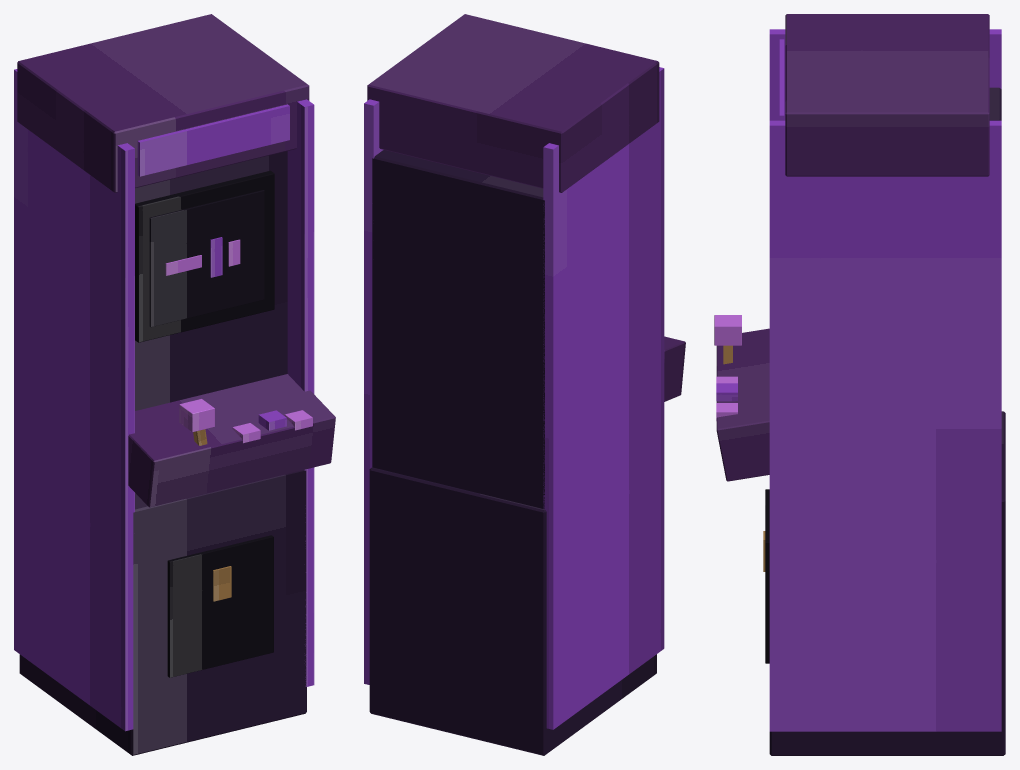
Rendered from arcade_cabinet_ultraviolet.glb.
3 views of the same model, side by side, from view 1: azimuth 30°, elevation 25°; view 2: azimuth 150°, elevation 25°; view 3: azimuth 270°, elevation 25° (orthographic). The views are drawn at different scales.
Parts seen in each view (by area): view 1: EdgeTrim_L, CabinetBase, Marquee, ControlDeck, CabinetUpper, CoinDoor, ScreenGlass, EdgeTrim_R, ScreenRecess, MarqueeFace, JoystickTop, CoinSlot; view 2: EdgeTrim_L, CabinetUpper, CabinetBase, Marquee, EdgeTrim_R, ControlDeck; view 3: EdgeTrim_R, Marquee, CabinetBase, ControlDeck, EdgeTrim_L, CoinDoor, JoystickTop.
Part boxes in pixels (x1=…): EdgeTrim_L: x1=14, y1=69, x2=134, y2=731; CabinetBase: x1=19, y1=470, x2=306, y2=755; Marquee: x1=17, y1=14, x2=309, y2=192; ControlDeck: x1=128, y1=374, x2=335, y2=507; CabinetUpper: x1=135, y1=151, x2=287, y2=493; CoinDoor: x1=167, y1=535, x2=273, y2=677; ScreenGlass: x1=149, y1=190, x2=264, y2=327; EdgeTrim_R: x1=287, y1=99, x2=314, y2=686; ScreenRecess: x1=135, y1=170, x2=274, y2=342; MarqueeFace: x1=137, y1=104, x2=289, y2=176; JoystickTop: x1=179, y1=399, x2=214, y2=432; CoinSlot: x1=213, y1=566, x2=231, y2=601; EdgeTrim_L: x1=543, y1=67, x2=664, y2=729; CabinetUpper: x1=372, y1=150, x2=544, y2=508; CabinetBase: x1=369, y1=467, x2=656, y2=755; Marquee: x1=367, y1=14, x2=659, y2=192; EdgeTrim_R: x1=364, y1=99, x2=383, y2=684; ControlDeck: x1=664, y1=336, x2=685, y2=401; EdgeTrim_R: x1=769, y1=120, x2=1001, y2=731; Marquee: x1=785, y1=14, x2=989, y2=176; CabinetBase: x1=769, y1=411, x2=1005, y2=755; ControlDeck: x1=716, y1=328, x2=769, y2=481; EdgeTrim_L: x1=769, y1=29, x2=1001, y2=120; CoinDoor: x1=765, y1=489, x2=769, y2=663; JoystickTop: x1=714, y1=315, x2=741, y2=345.
Size of the model in its own units: 0.6 by 1.82 by 0.74.
1 material, 1 textured.
